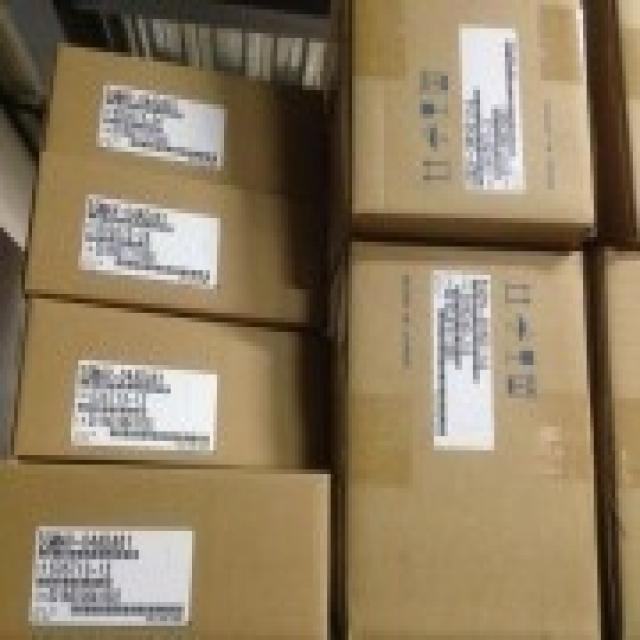box: (331, 242, 604, 640), (324, 0, 594, 289), (0, 455, 338, 640), (21, 147, 331, 332), (11, 294, 334, 469), (39, 43, 331, 199), (583, 247, 640, 640), (583, 5, 640, 251)
